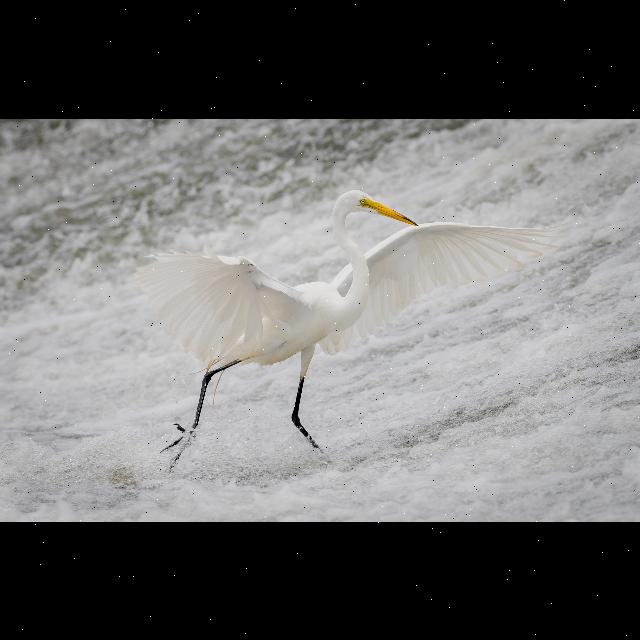egret: (114, 183, 546, 469)
